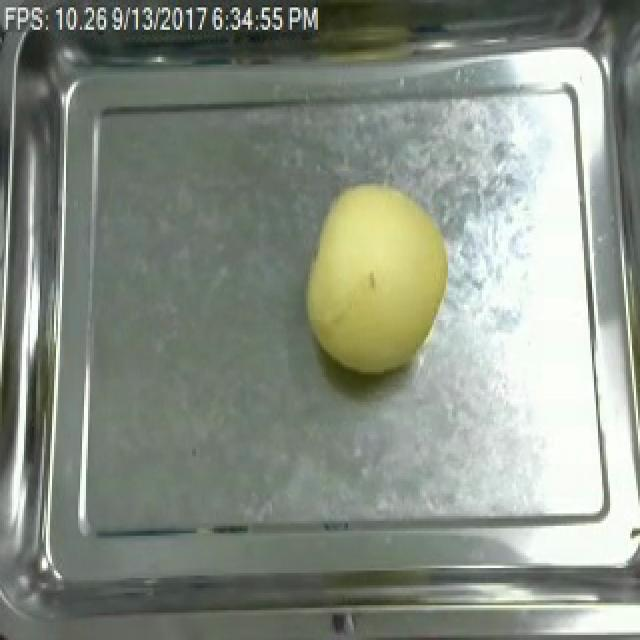Fruit: (298, 173, 458, 380)
